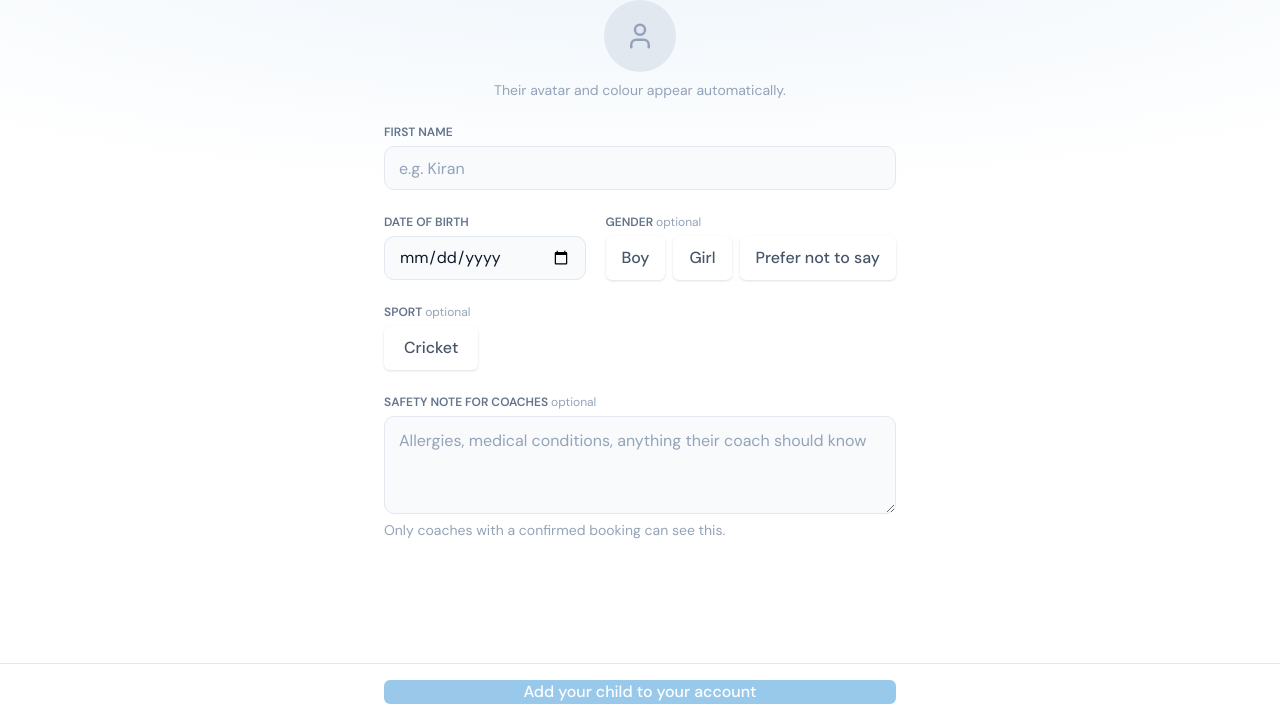
Scenario: ChildForm — create mode › shows the Player-account copy and blocks submit for a 16+ DOB
Type "Kiran" into the field with test id "child-name-input".
click(640, 168); type("Kiran")  # box left=384, top=146, right=896, bottom=190
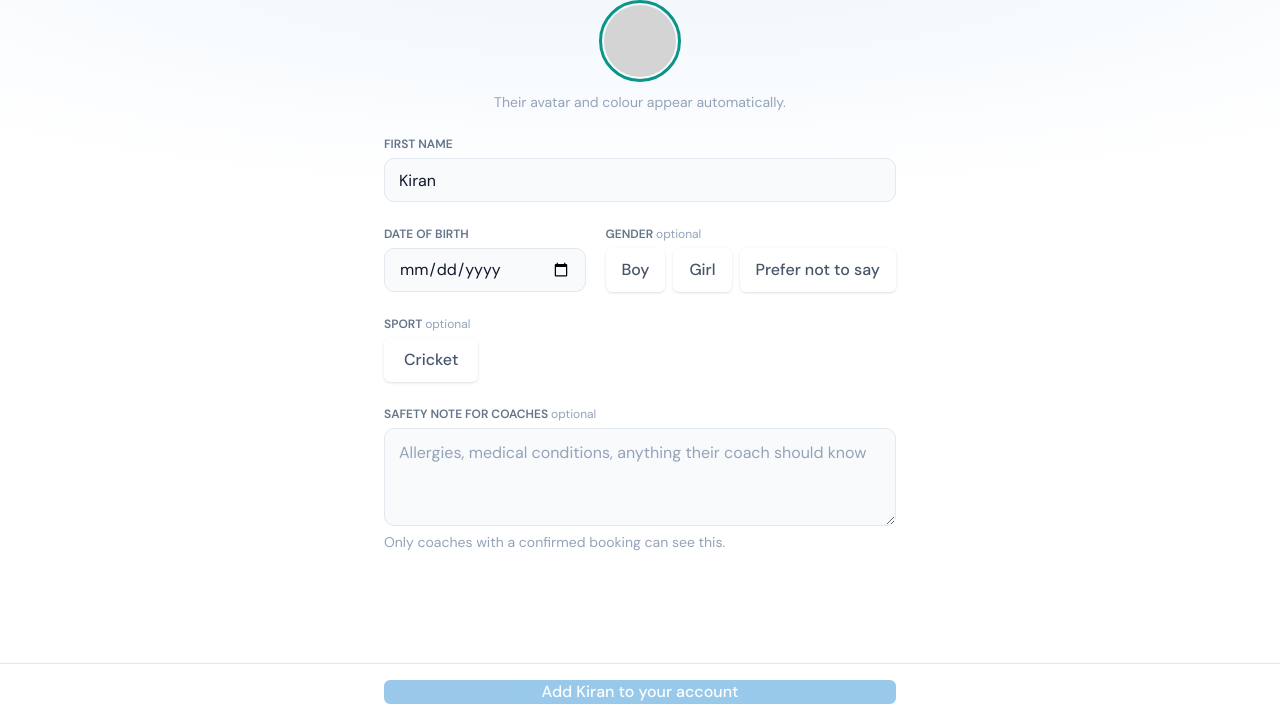
Type "2005-03-14" into the date field with test id "child-dob-input".
click(485, 270); type("2005-03-14")  # box left=384, top=248, right=586, bottom=292
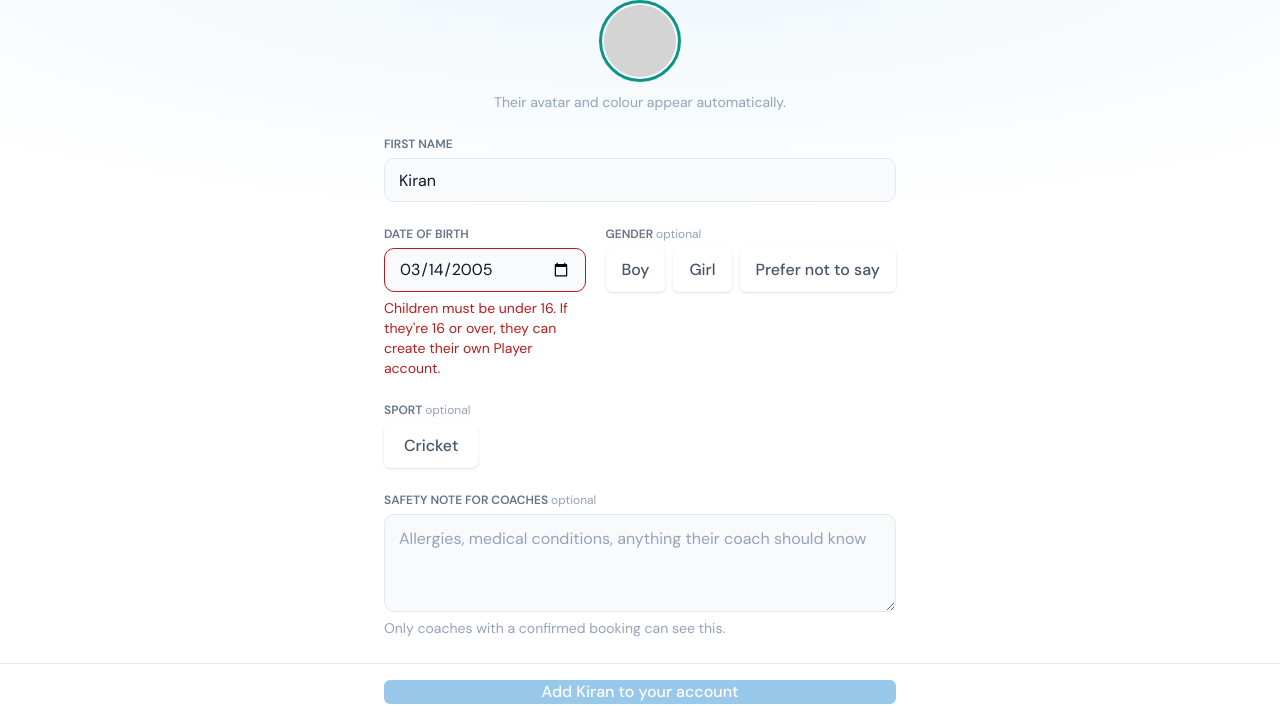
Expected: the button with test id "child-form-submit" is disabled, left=384, top=680, right=896, bottom=704
Now the text "they can create their own Player account" is shown, box left=384, top=299, right=568, bottom=377
